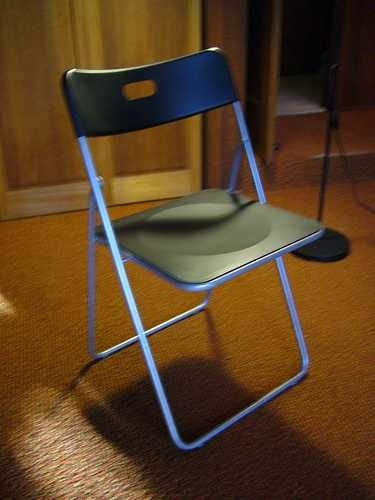obstacle: (63, 48, 323, 450)
